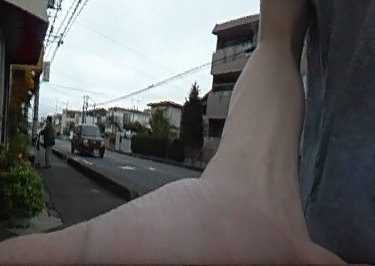person: (37, 112, 58, 171)
